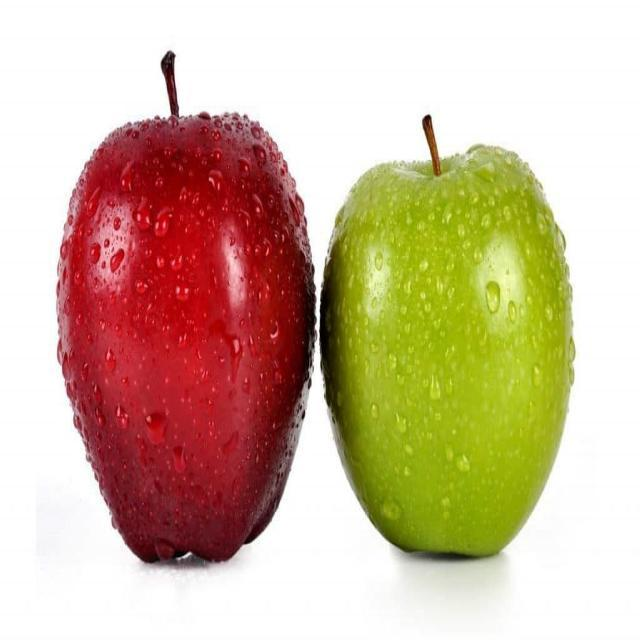Fresh Apple: (72, 106, 313, 572), (322, 132, 573, 550)
